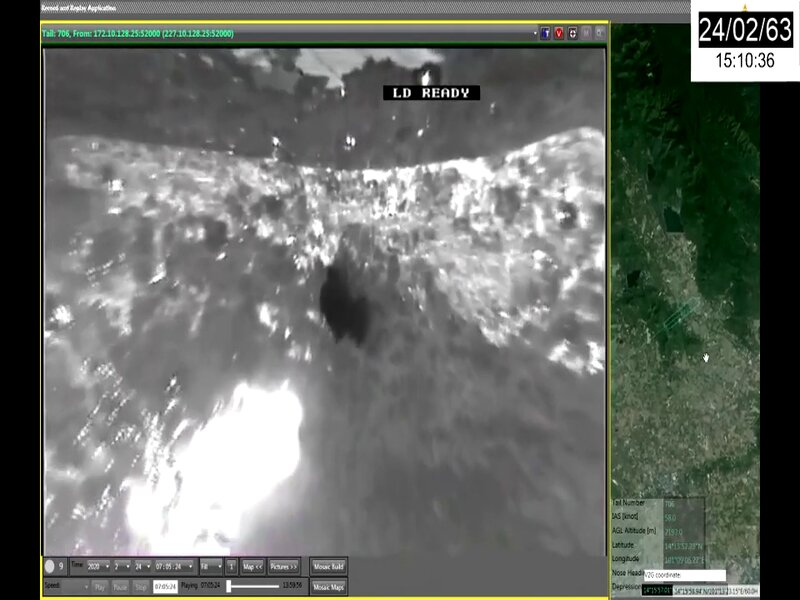Fire: (119, 380, 304, 555)
